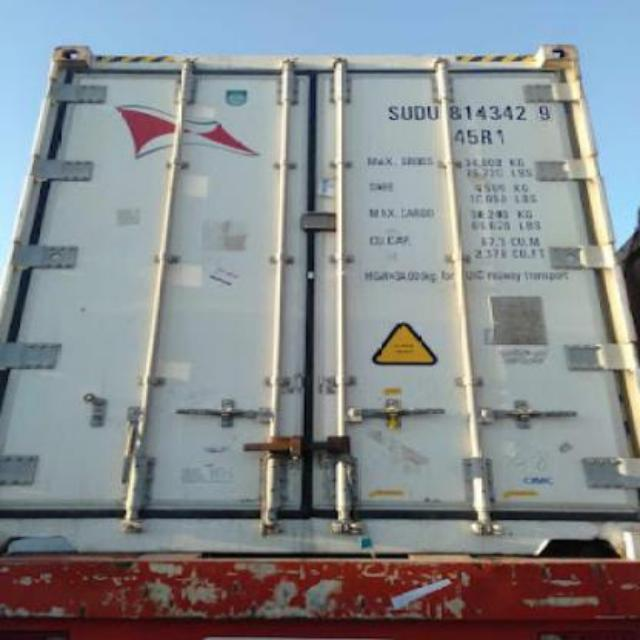1: (464, 105, 474, 121)
2: (516, 103, 526, 123)
3: (490, 103, 500, 121)
4: (474, 105, 488, 121), (502, 105, 516, 121)
8: (450, 105, 462, 121)
9: (538, 105, 550, 118)
D: (414, 105, 426, 121)
S: (388, 105, 400, 121)
U: (426, 105, 439, 118), (402, 108, 414, 120)
